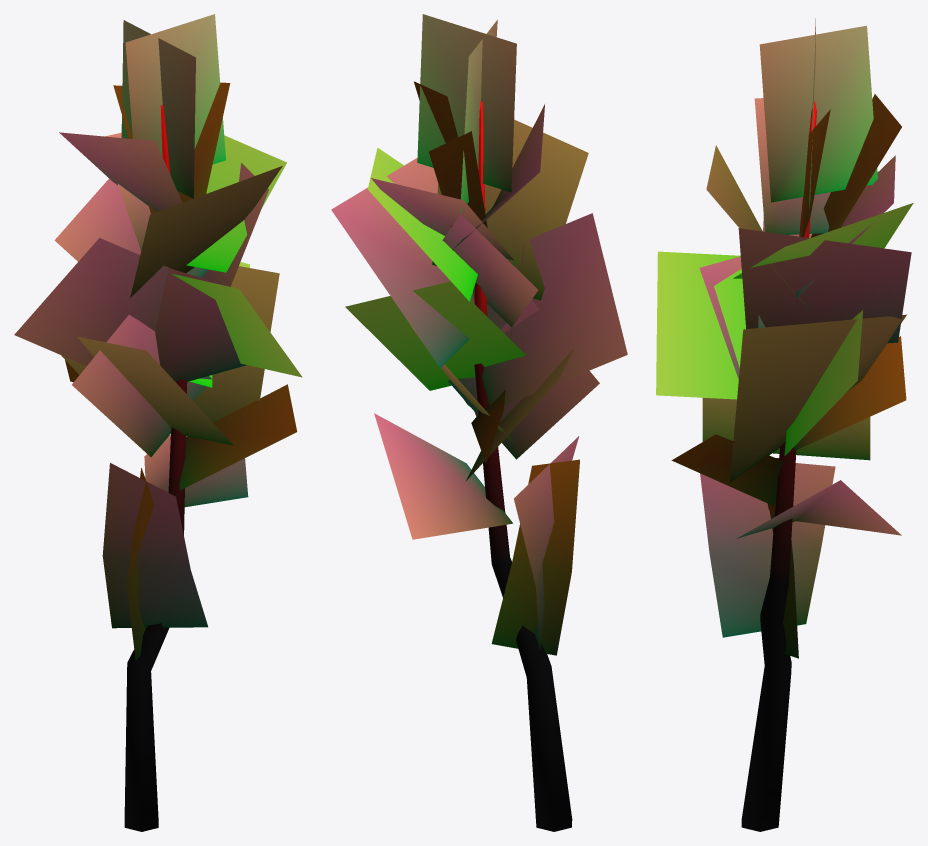
Rendered from swamp_birch_b_128.fbx.
3 views of the same model, side by side, from view 1: azimuth 30°, elevation 25°; view 2: azimuth 150°, elevation 25°; view 3: azimuth 270°, elevation 25° (orthographic). The views are drawn at different scales.
Parts seen in each view (by area): view 1: birchleavesb128, birchtreeb128; view 2: birchleavesb128, birchtreeb128; view 3: birchleavesb128, birchtreeb128.
Boxes of the visible parts, box(x1,y1,x2,y2) form: birchleavesb128: box(14, 14, 302, 660); birchtreeb128: box(124, 105, 187, 831); birchleavesb128: box(331, 14, 627, 655); birchtreeb128: box(474, 101, 572, 831); birchleavesb128: box(656, 18, 913, 658); birchtreeb128: box(741, 101, 816, 831).
Size of what is drawn, in the model's own units: 4.37 by 12.49 by 3.55.
